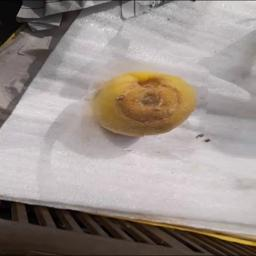Peach Rotten: (82, 57, 211, 152)
